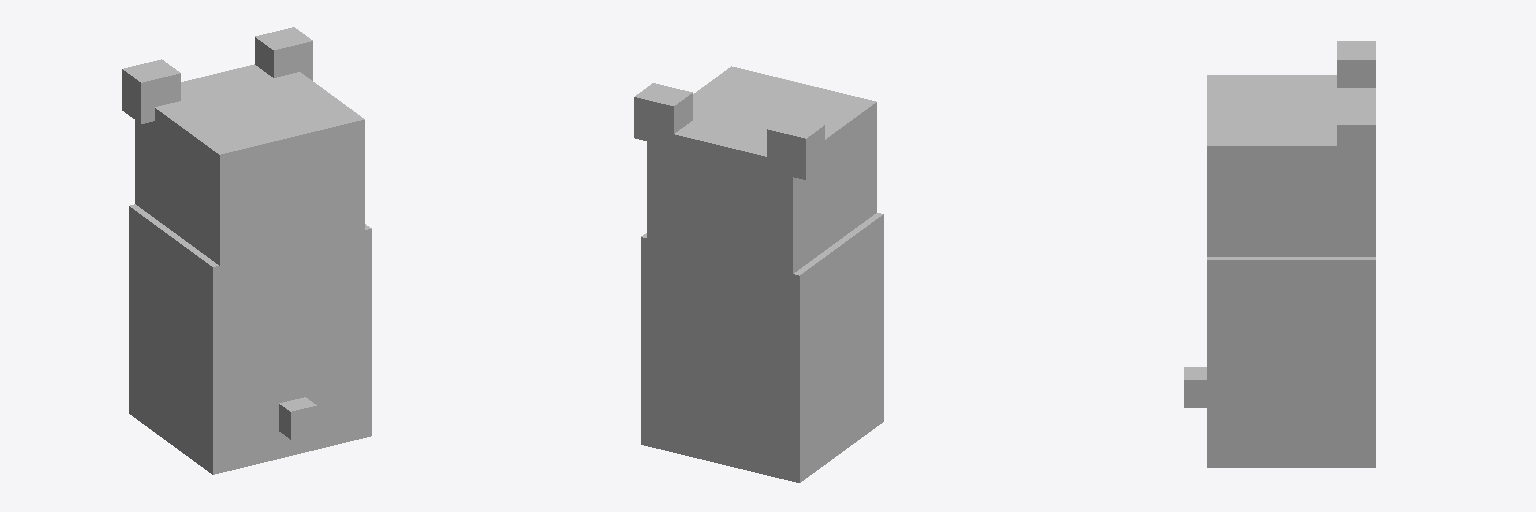
Rendered from Bear.obj.
The picture shows the model from 3 angles: view 1: azimuth 30°, elevation 25°; view 2: azimuth 150°, elevation 25°; view 3: azimuth 270°, elevation 25°; orthographic projection.
Visible parts, largest first — view 1: Bear; view 2: Bear; view 3: Bear.
Part boxes in pixels (x1,y1,x2,y2): Bear: (122,27,371,474); Bear: (634,66,883,482); Bear: (1184,41,1375,467).
Size of the model in its own units: 26 by 50 by 25.